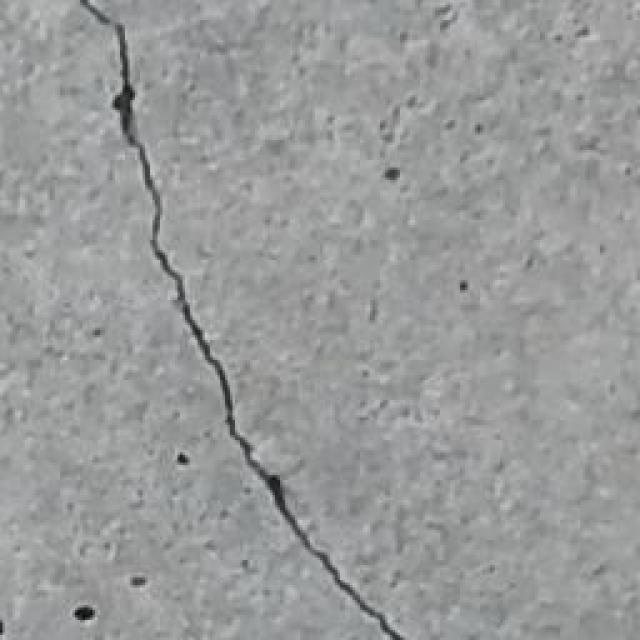concrete-crack: (75, 0, 405, 640)
